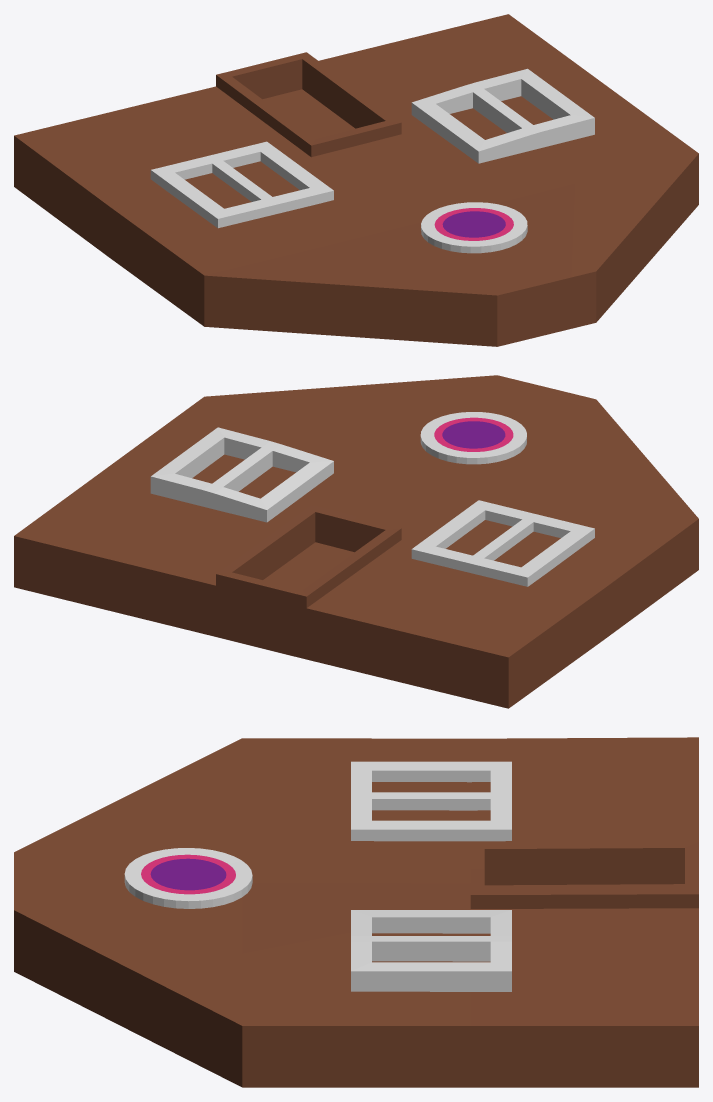
The model's file is Cookie3.fbx.
3 renders of one model, top to bottom at view 1: azimuth 30°, elevation 25°; view 2: azimuth 150°, elevation 25°; view 3: azimuth 270°, elevation 25°, orthographic. The views are drawn at different scales.
Visible parts, largest first — view 1: Cookie3; view 2: Cookie3; view 3: Cookie3.
Part boxes in pixels (x1,y1,x2,y2): Cookie3: (14, 14, 698, 346); Cookie3: (14, 375, 698, 708); Cookie3: (14, 737, 698, 1087).
Bounding box in the file's own units: 124 × 16.85 × 124.
